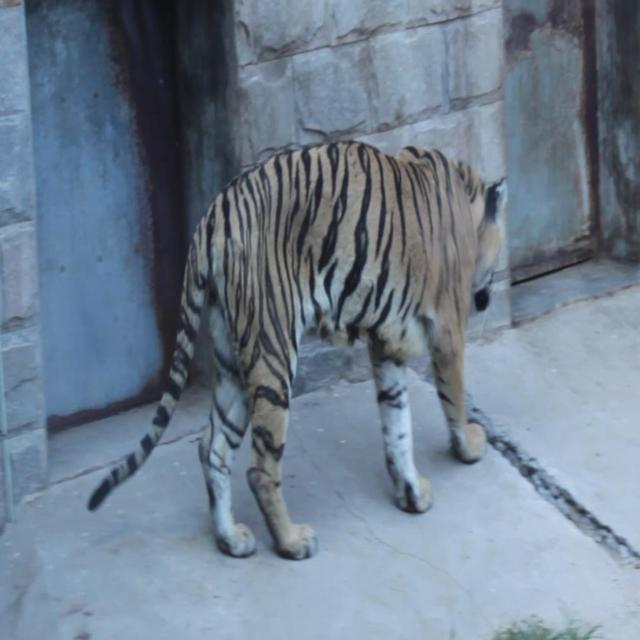tiger: (83, 110, 530, 572)
